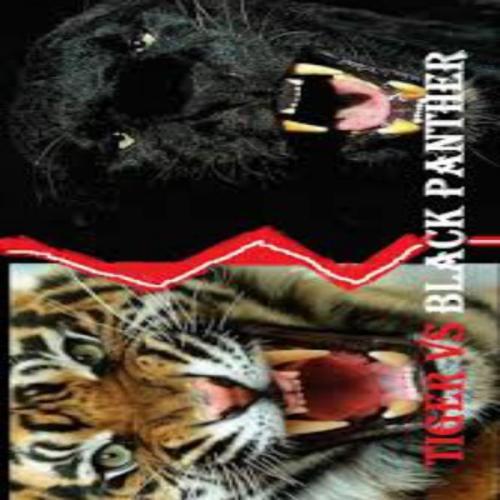panther-endangered: (9, 10, 483, 218)
